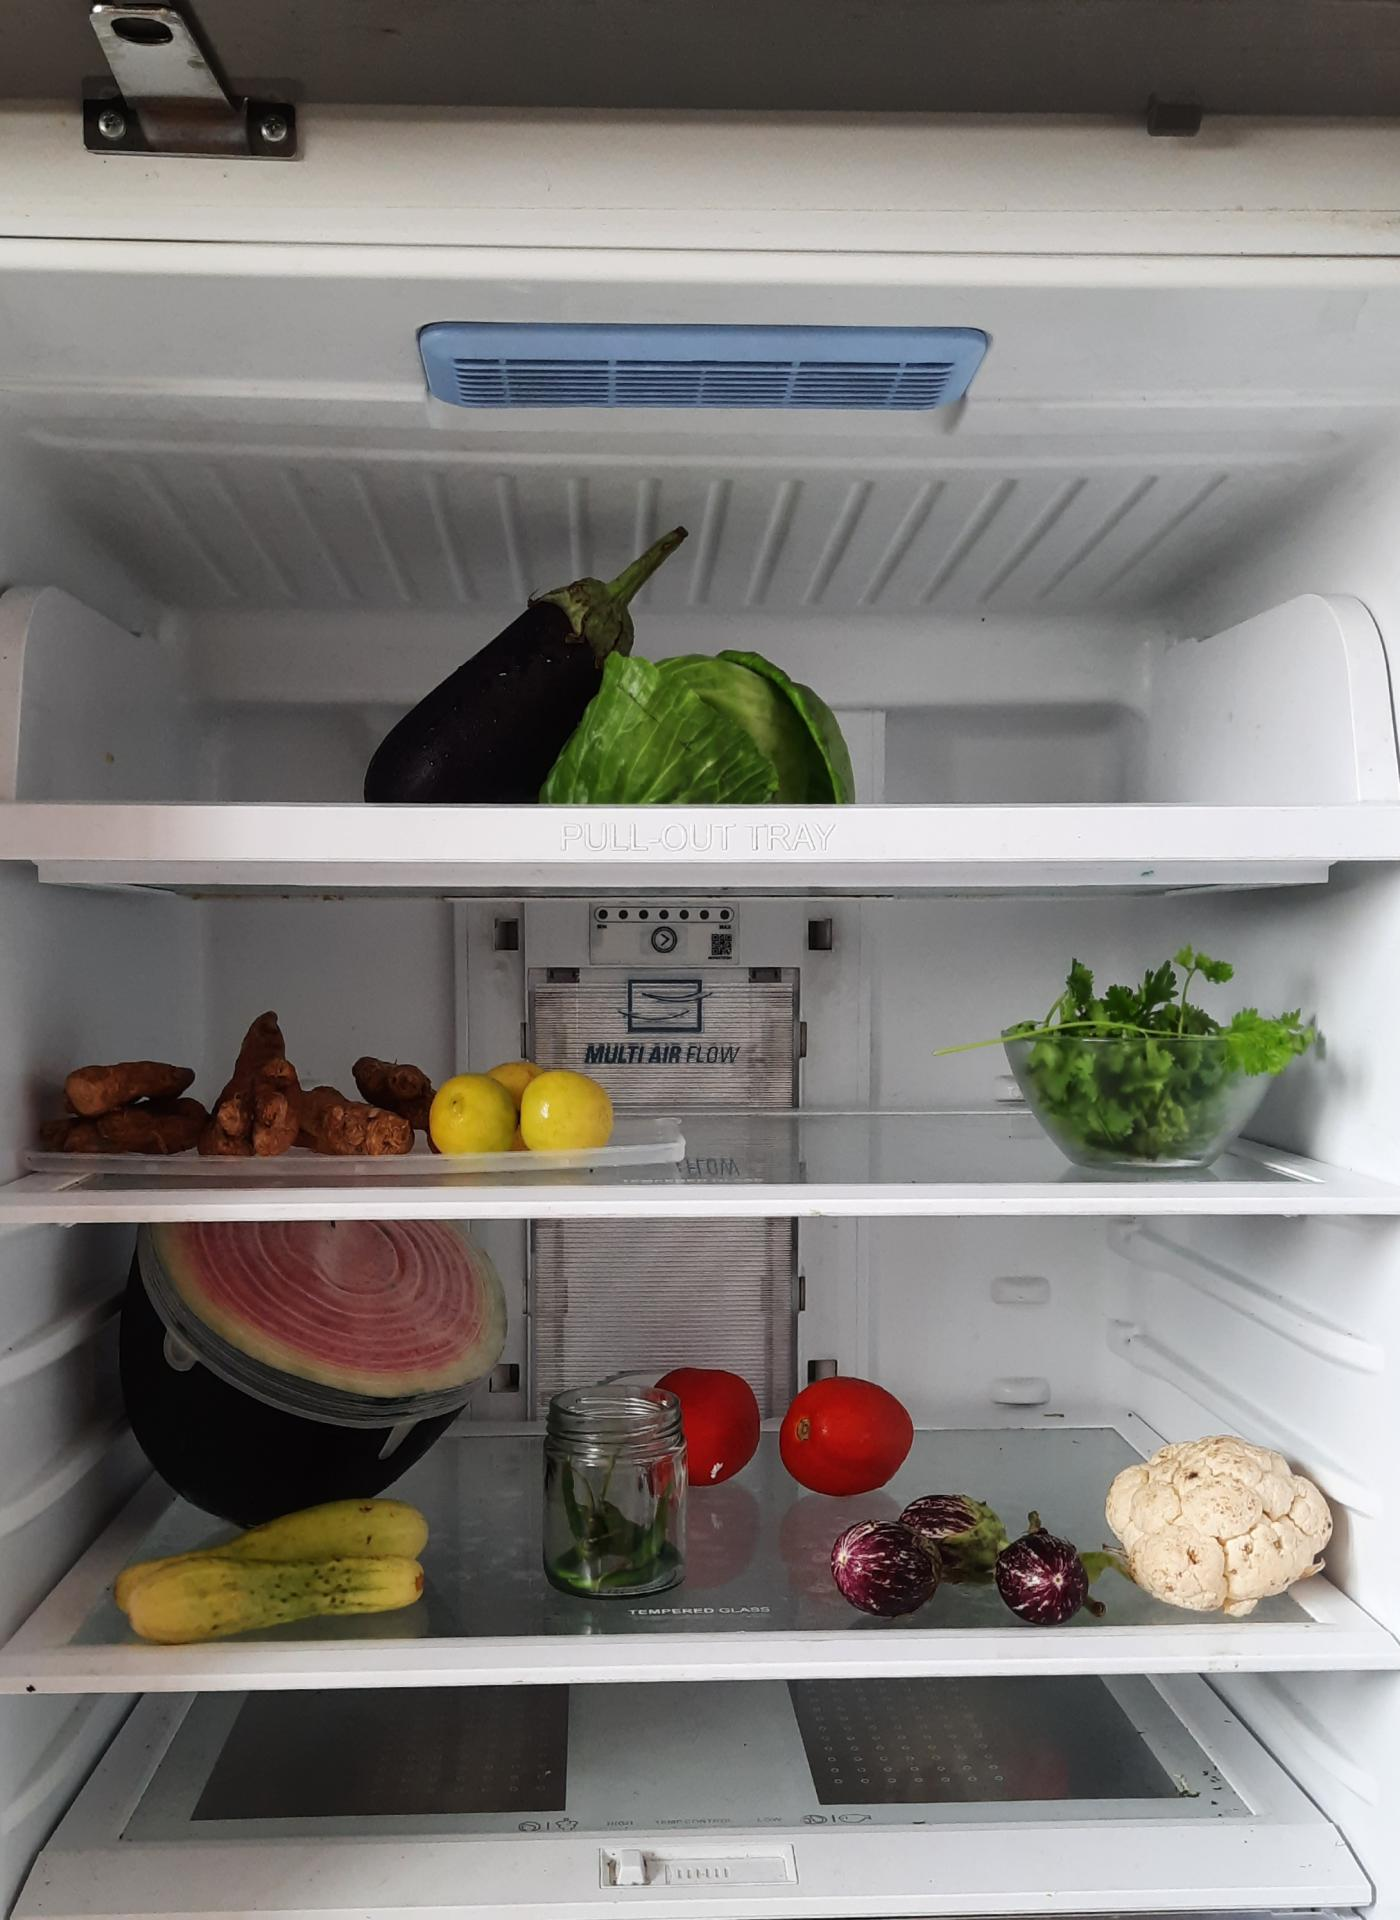brinjal: (353, 535, 686, 805), (835, 1506, 1102, 1643)
cabbage: (558, 635, 871, 808)
cauliflower: (1118, 1397, 1369, 1608)
chillies: (541, 1383, 696, 1605)
coriander: (1012, 951, 1311, 1146)
cucumber: (112, 1503, 456, 1637)
ginger: (46, 996, 434, 1172)
lemon: (432, 1051, 625, 1167)
tomato: (638, 1357, 927, 1507)
watermelon: (103, 1224, 528, 1498)
